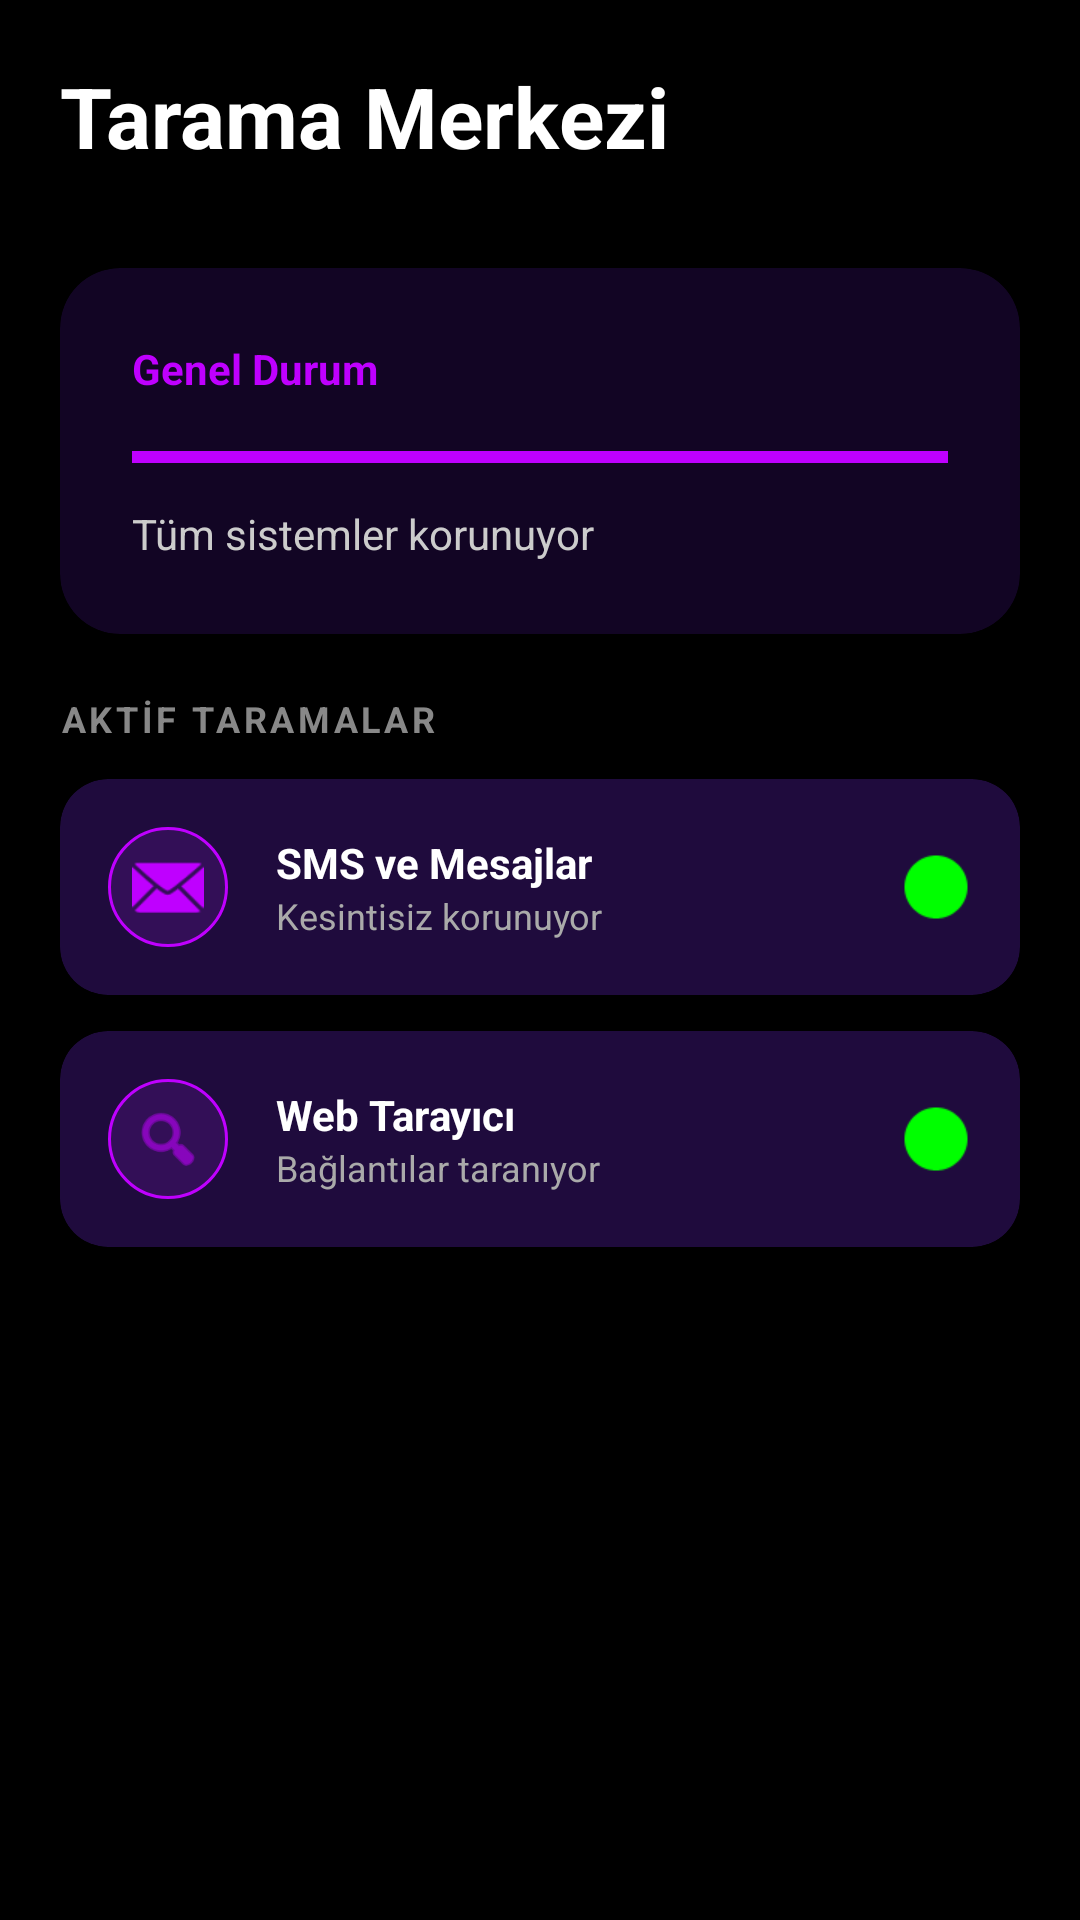

Where to tap for icons on this 1080px×1920px app screen, as point (x, y):
email: point (168, 887)
presence online: point (936, 887), point (936, 1139)
search: point (168, 1139)
